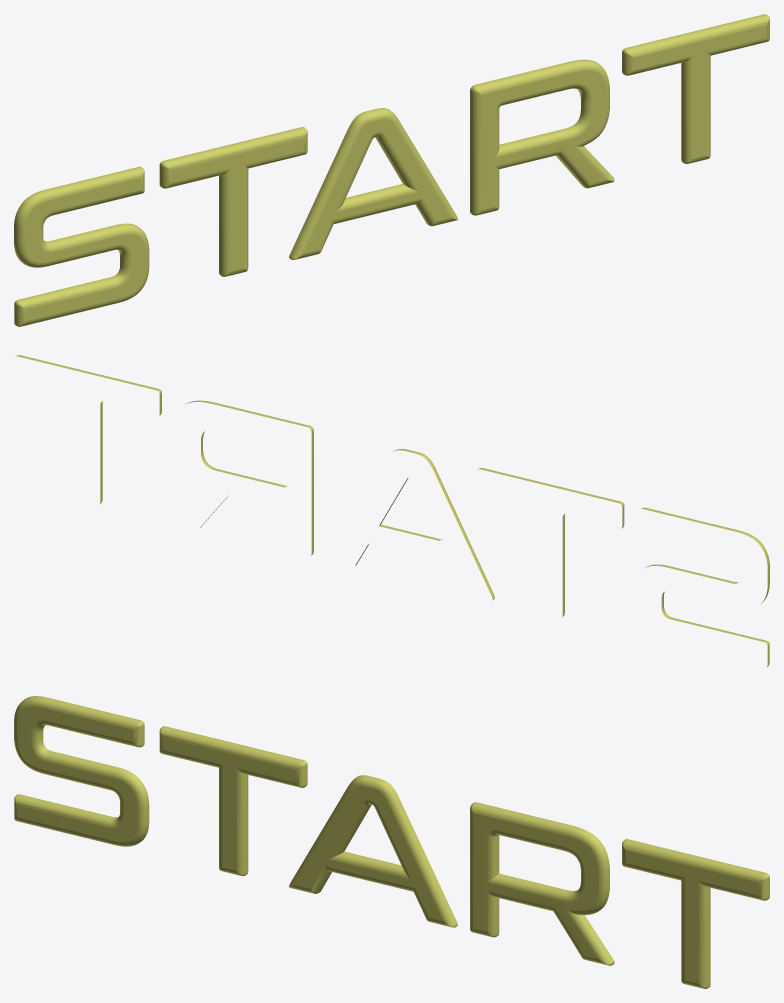
The model's file is StartButtonText.glb.
3 views of the same model, one above another, from view 1: azimuth 30°, elevation 25°; view 2: azimuth 150°, elevation 25°; view 3: azimuth 330°, elevation 25° (orthographic).
Parts seen in each view (by area): view 1: Text; view 2: Text; view 3: Text.
Part boxes in pixels (x1,y1,x2,y2): Text: (14,14,769,326); Text: (16,355,769,666); Text: (14,696,769,988).
Bounding box in the file's own units: 8.42 × 1.38 × 0.0961.
